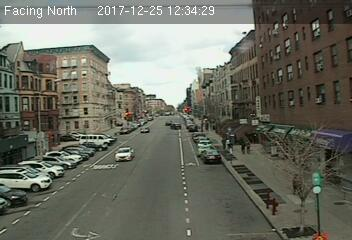car: (112, 146, 137, 162), (201, 149, 222, 162)
